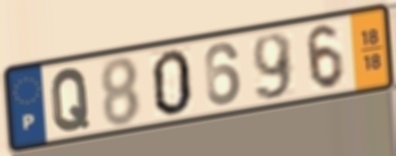0: (149, 47, 195, 118)
6: (304, 21, 348, 92), (202, 40, 245, 108)
8: (98, 53, 143, 128)
9: (251, 30, 297, 102)
Q: (49, 66, 92, 134)
